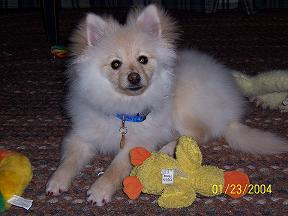dog-pomeranian: (83, 1, 161, 94)
